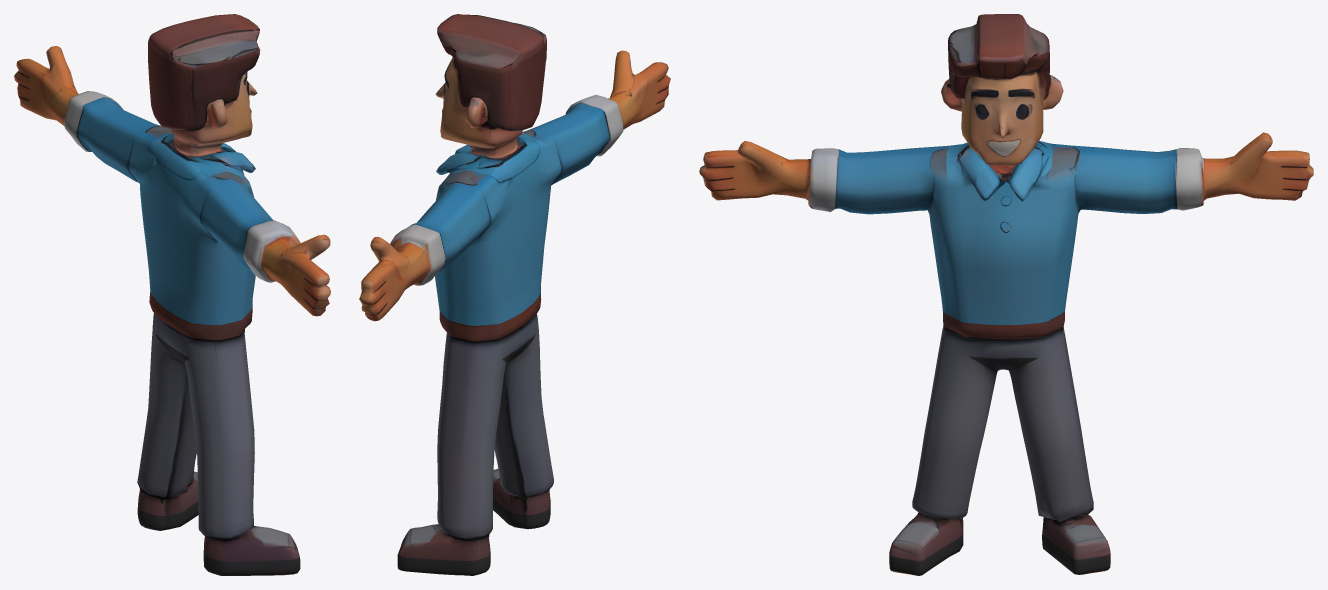
The model's file is SM_Chr_HumanCitizen_01.glb.
3 views of the same model, side by side, from view 1: azimuth 30°, elevation 25°; view 2: azimuth 150°, elevation 25°; view 3: azimuth 270°, elevation 25° (orthographic).
Parts seen in each view (by area): view 1: tripo_node_18e005d0; view 2: tripo_node_18e005d0; view 3: tripo_node_18e005d0.
Boxes of the visible parts, x1,y1,x2,y2 form: tripo_node_18e005d0: [14, 14, 330, 575]; tripo_node_18e005d0: [359, 14, 670, 575]; tripo_node_18e005d0: [699, 14, 1313, 575].
Size of the model in its own units: 18.98 by 93.59 by 99.92.
1 material, 1 textured.
